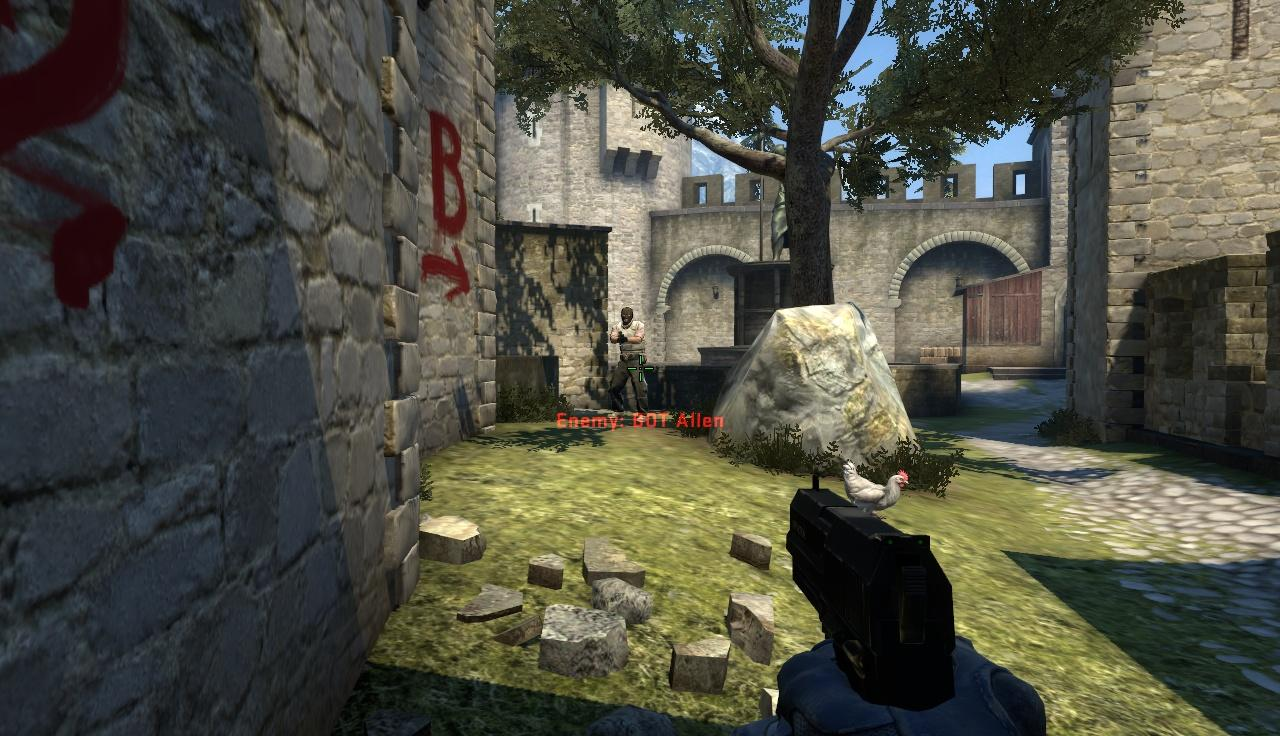pistol: (784, 465, 1047, 736)
tt: (613, 307, 643, 416)
tthead: (621, 307, 633, 324)
